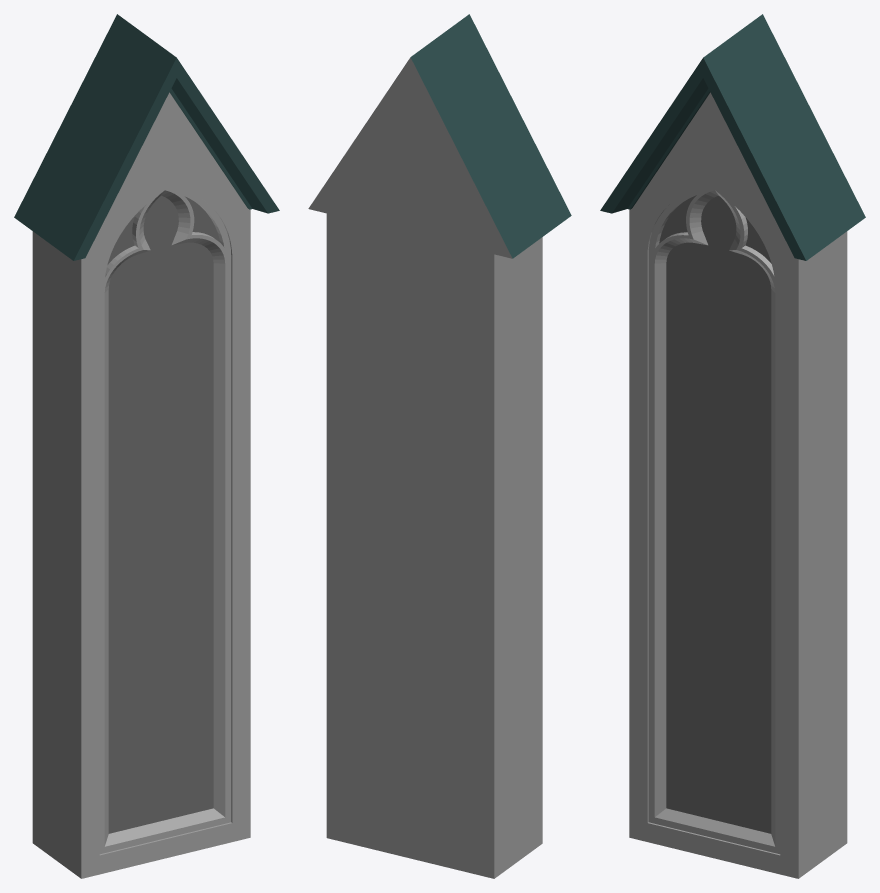
The model's file is Prop_Gothic_Building_Overhang_Window_01.FBX.
3 views of the same model, side by side, from view 1: azimuth 30°, elevation 25°; view 2: azimuth 150°, elevation 25°; view 3: azimuth 330°, elevation 25° (orthographic).
Parts seen in each view (by area): view 1: Prop_Gothic_Building_Overhang_Window_01; view 2: Prop_Gothic_Building_Overhang_Window_01; view 3: Prop_Gothic_Building_Overhang_Window_01.
Boxes of the visible parts, left/top/right/bottom form: Prop_Gothic_Building_Overhang_Window_01: left=14, top=14, right=279, bottom=878; Prop_Gothic_Building_Overhang_Window_01: left=308, top=14, right=571, bottom=878; Prop_Gothic_Building_Overhang_Window_01: left=600, top=14, right=865, bottom=878.
Size of the model in its own units: 1110 by 4157 by 555.
